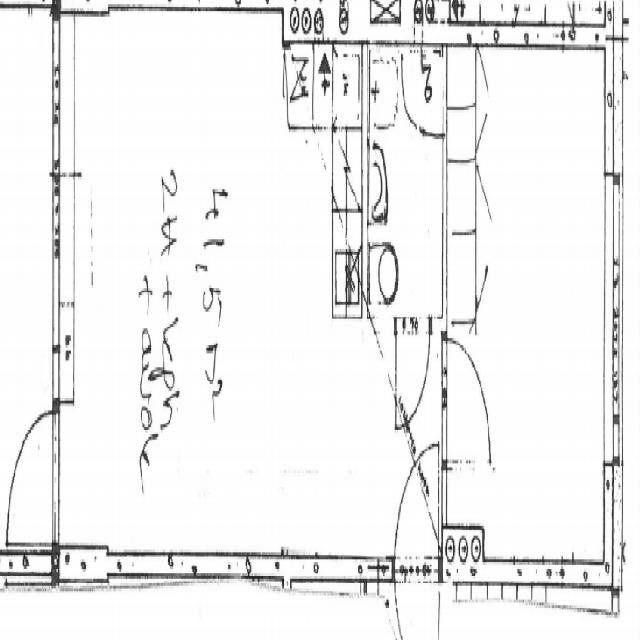door: (8, 409, 60, 534), (394, 432, 437, 578), (440, 345, 488, 462), (397, 314, 429, 424)
